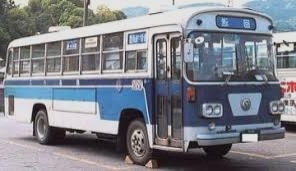bus: (8, 8, 281, 165)
